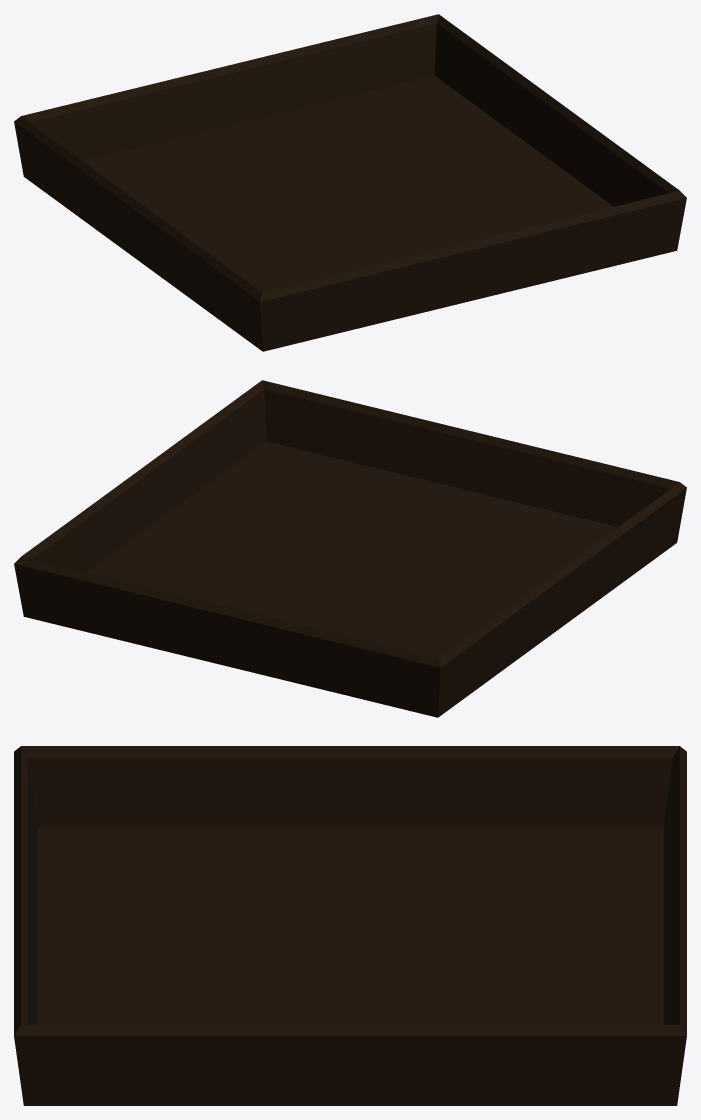
Rendered from Basket_Square_Small.glb.
3 views of the same model, one above another, from view 1: azimuth 30°, elevation 25°; view 2: azimuth 150°, elevation 25°; view 3: azimuth 270°, elevation 25° (orthographic). The views are drawn at different scales.
Parts seen in each view (by area): view 1: Basket_Square_Small; view 2: Basket_Square_Small; view 3: Basket_Square_Small.
Boxes of the visible parts, x1,y1,x2,y2 form: Basket_Square_Small: (14, 14, 686, 351); Basket_Square_Small: (14, 380, 686, 717); Basket_Square_Small: (14, 746, 686, 1105).
Bounding box in the file's own units: 0.7416 × 0.1002 × 0.7416.
1 material, 1 textured.
